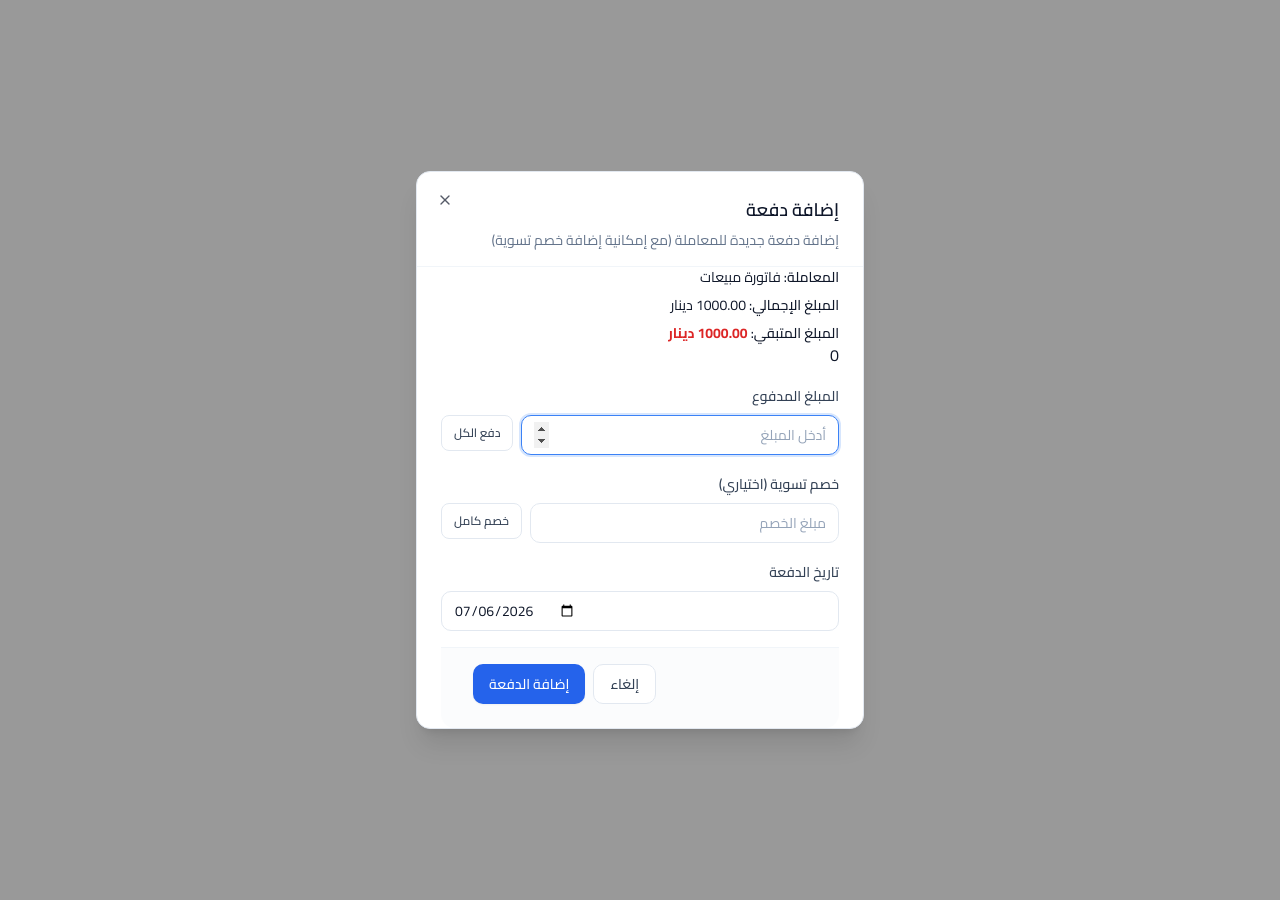
Test: QuickPayDialog › Form Validation › should disable submit button when amount exceeds remaining balance
When amount exceeds remaining, button should be disabled
Type "1500" into the number field labelled "المبلغ المدفوع". click: (680, 435)
box: [522,415,839,455]
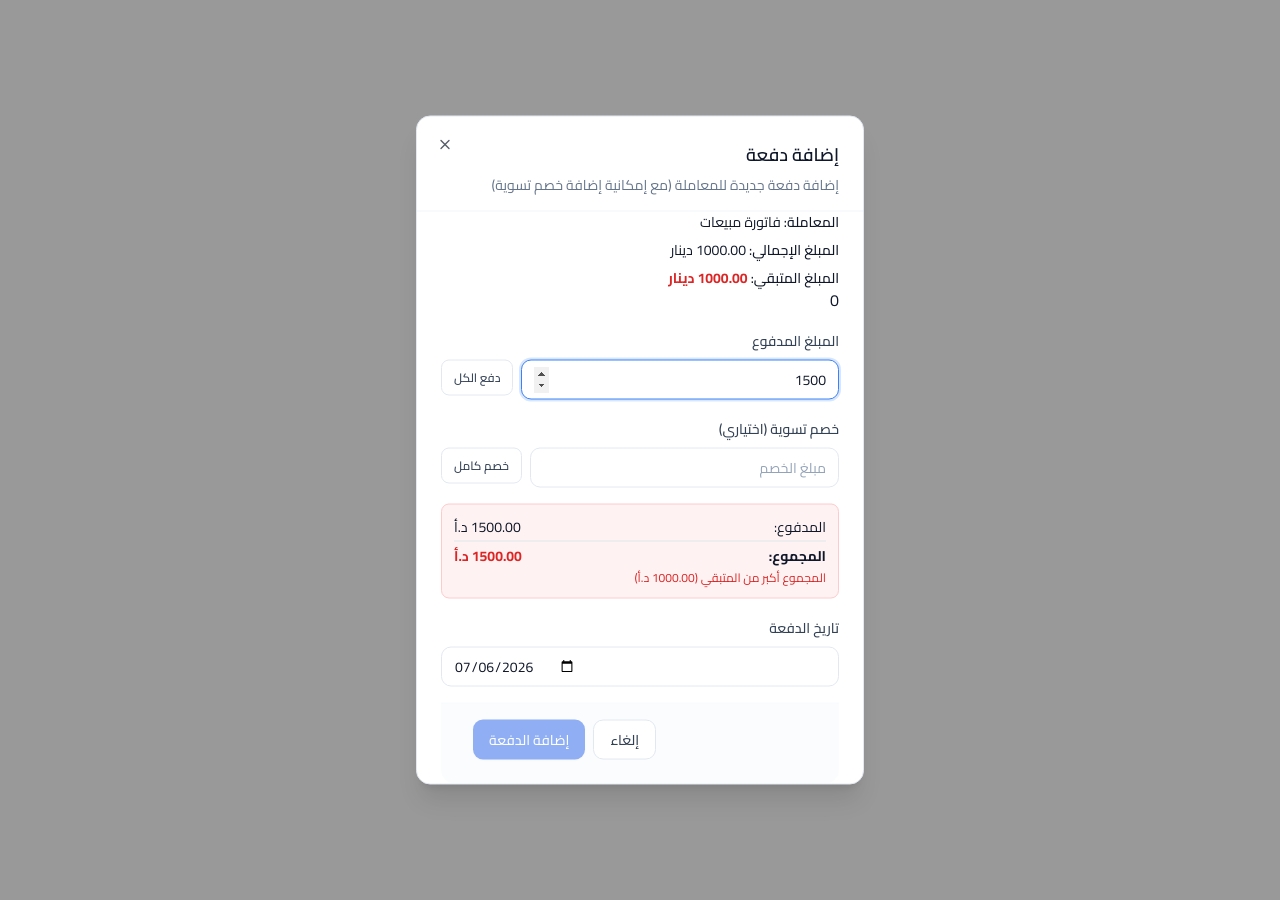
Result: the button "إضافة الدفعة" is disabled at [473,720,585,760]
